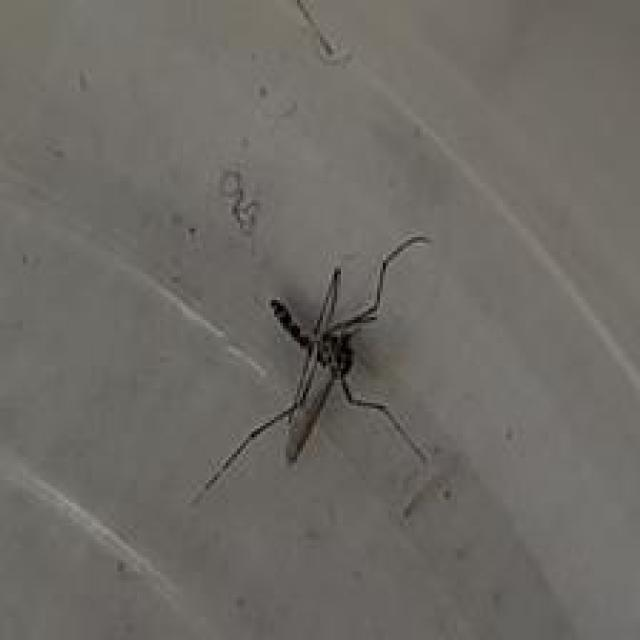Aedes albopictus: (190, 233, 444, 513)
